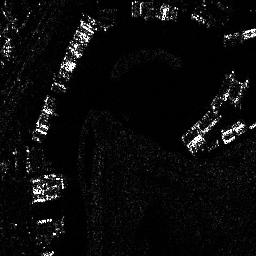ship: (223, 26, 256, 45)
